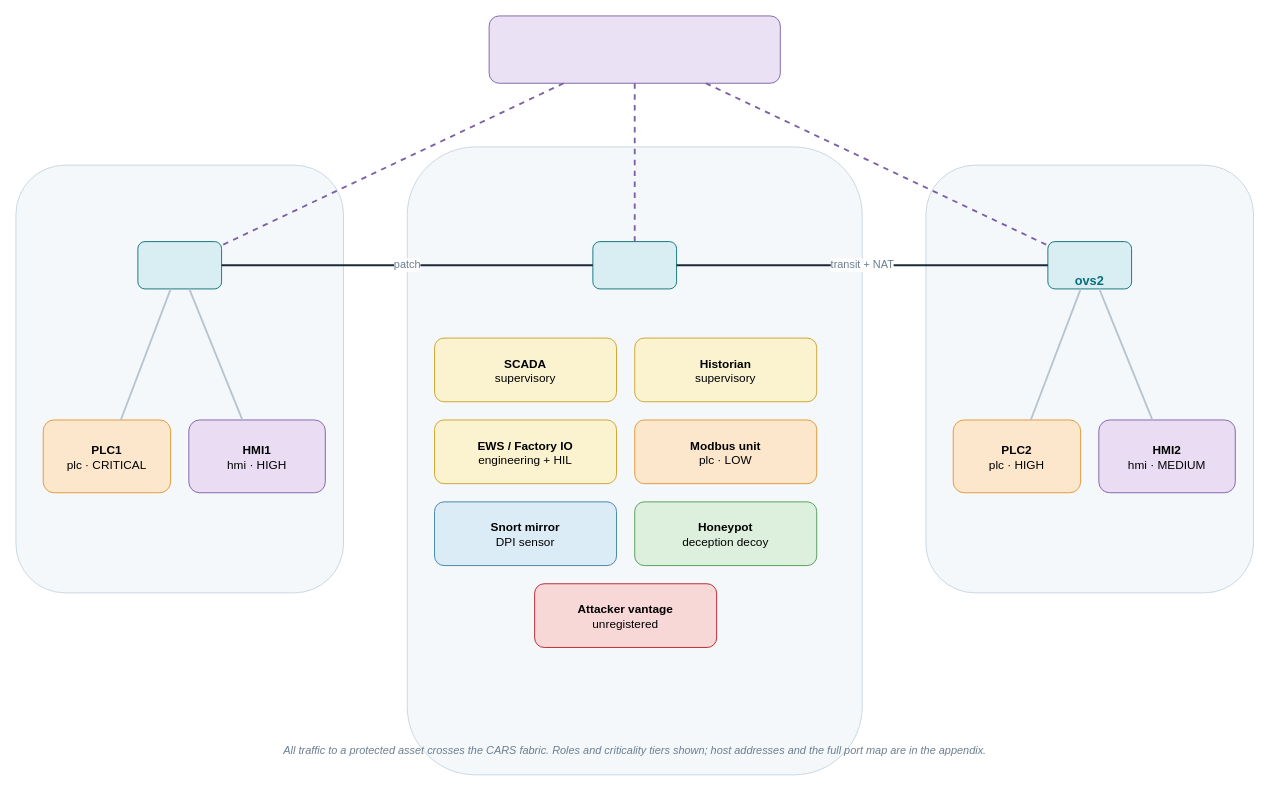
Image size: 1269x791. Some labels were removed from this diagram. The shapes that lost their labels are listed below. From the top down, each one's box as (x1, y1, x2, y2) in pixels, then its label:
(488, 15, 780, 83): CARS controller os-ken · OpenFlow 1.3 · decision brain
(137, 241, 222, 289): ovs1
(592, 241, 677, 289): ovsgw
(15, 164, 344, 593): Cell-1 · ovs1
(925, 164, 1254, 593): Cell-2 · ovs2 (via NAT)
(406, 146, 862, 775): Gateway · ovsgw
